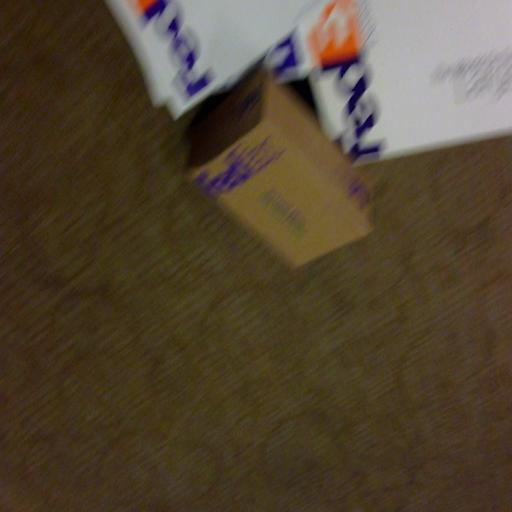Amazon: (184, 84, 376, 277), (307, 0, 512, 161)
